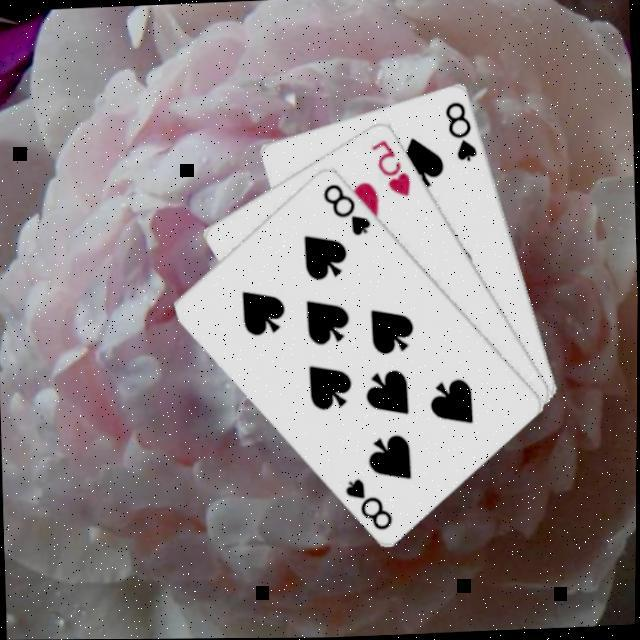5H: (369, 133, 417, 200)
8S: (321, 178, 376, 240), (344, 472, 398, 534), (442, 96, 482, 165)
